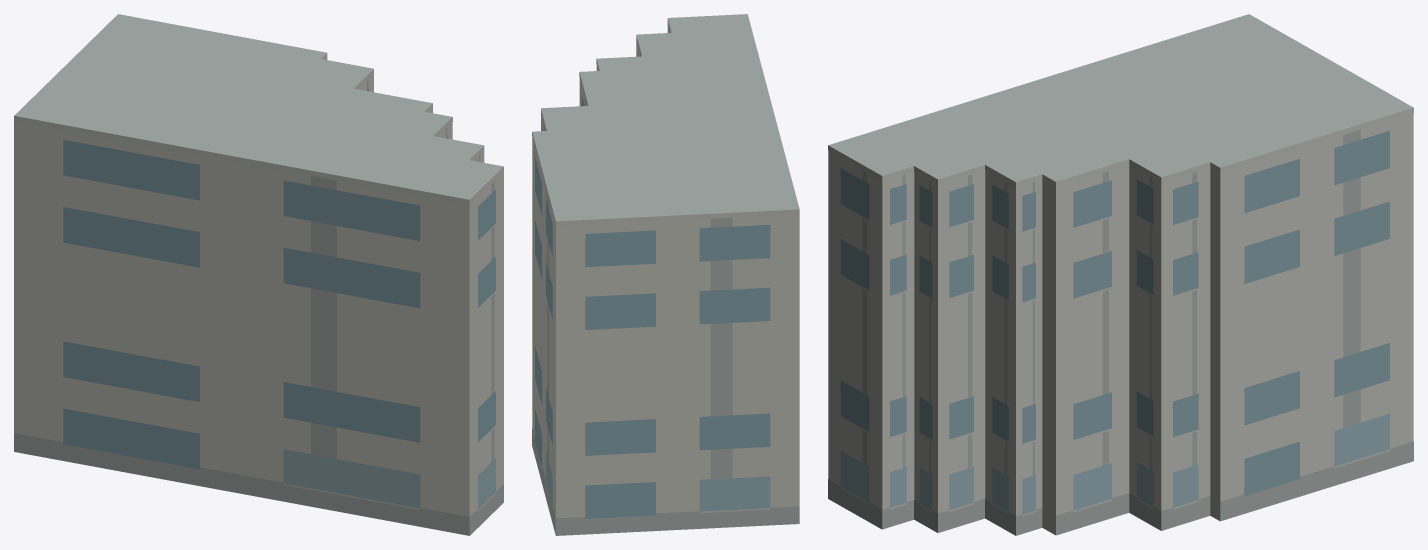
Rendered from survey-upis-32584235.glb.
3 views of the same model, side by side, from view 1: azimuth 30°, elevation 25°; view 2: azimuth 150°, elevation 25°; view 3: azimuth 270°, elevation 25° (orthographic). The views are drawn at different scales.
Parts seen in each view (by area): view 1: survey-upis-32584235.tmp; view 2: survey-upis-32584235.tmp; view 3: survey-upis-32584235.tmp.
Boxes of the visible parts, x1,y1,x2,y2 form: survey-upis-32584235.tmp: [14, 14, 503, 535]; survey-upis-32584235.tmp: [532, 14, 799, 535]; survey-upis-32584235.tmp: [828, 14, 1413, 535].
Bounding box in the file's own units: 16.14 × 15.8 × 23.73.
